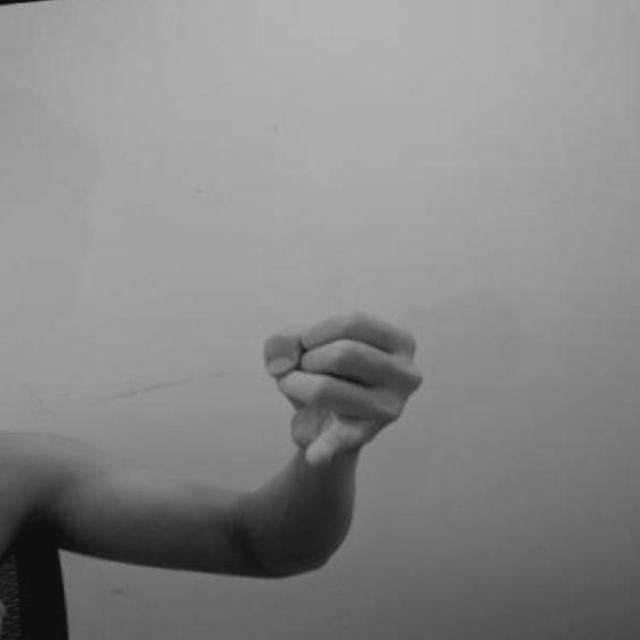J: (255, 303, 431, 473)
